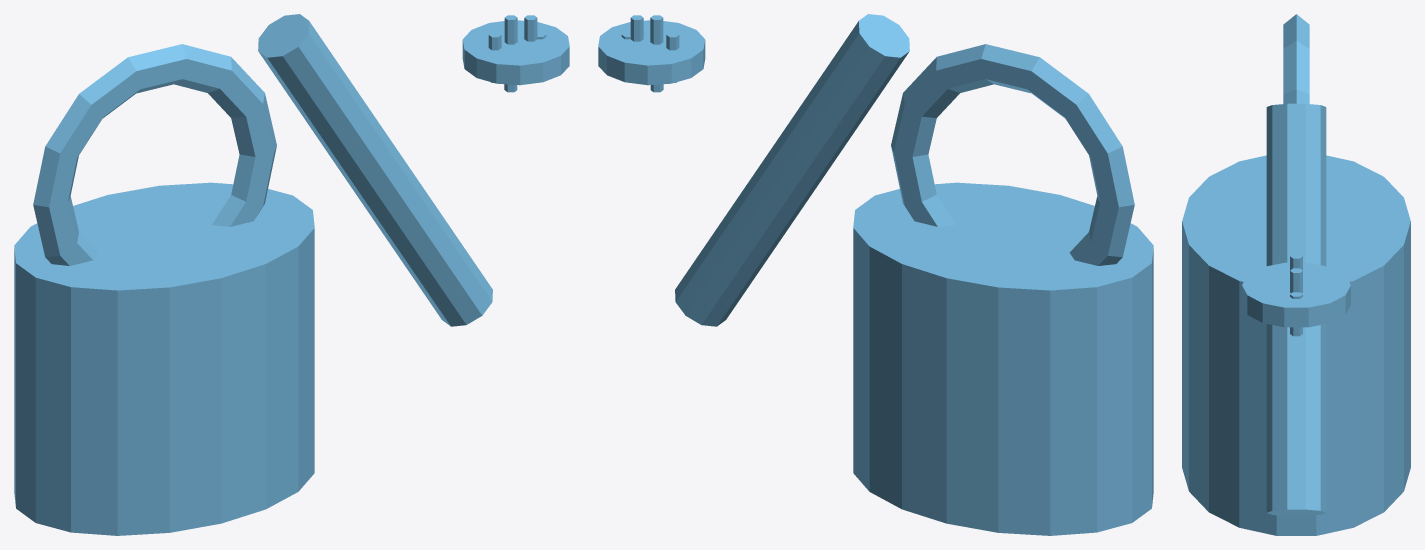
File: Watering Can.fbx
3 renders of one model, left to right at view 1: azimuth 30°, elevation 25°; view 2: azimuth 150°, elevation 25°; view 3: azimuth 270°, elevation 25°, orthographic.
Visible parts, largest first — view 1: watering_can; view 2: watering_can; view 3: watering_can.
Part boxes in pixels (x1=…): watering_can: x1=14, y1=14, x2=569, y2=535; watering_can: x1=598, y1=14, x2=1153, y2=535; watering_can: x1=1182, y1=14, x2=1410, y2=535.
Bounding box in the file's own units: 114 × 88.35 × 42.
